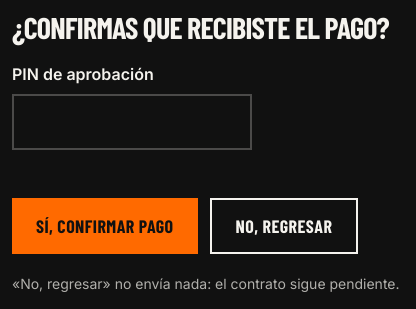
ConfirmTransferForm (RF-11) › con un PIN incorrecto muestra los intentos restantes y limpia el campo
This screenshot has width=416, height=309.
Type "111222" into the password field labelled "PIN de aprobación".
click(132, 122); type("111222")  # box [12,94,252,150]
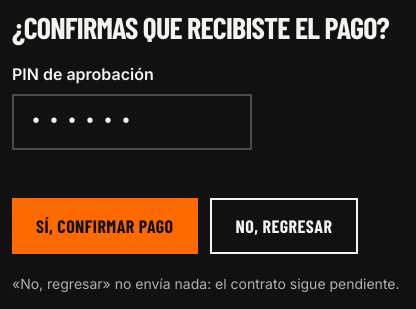
Click the button "Sí, confirmar pago".
click(105, 226)  # box [12,198,198,254]
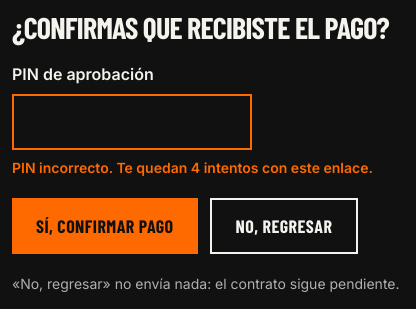
Check: the message shows "Te quedan 4 intentos", box [12,159,373,176]
Check: the password field labelled "PIN de aprobación" is empty, box [12,94,252,150]
